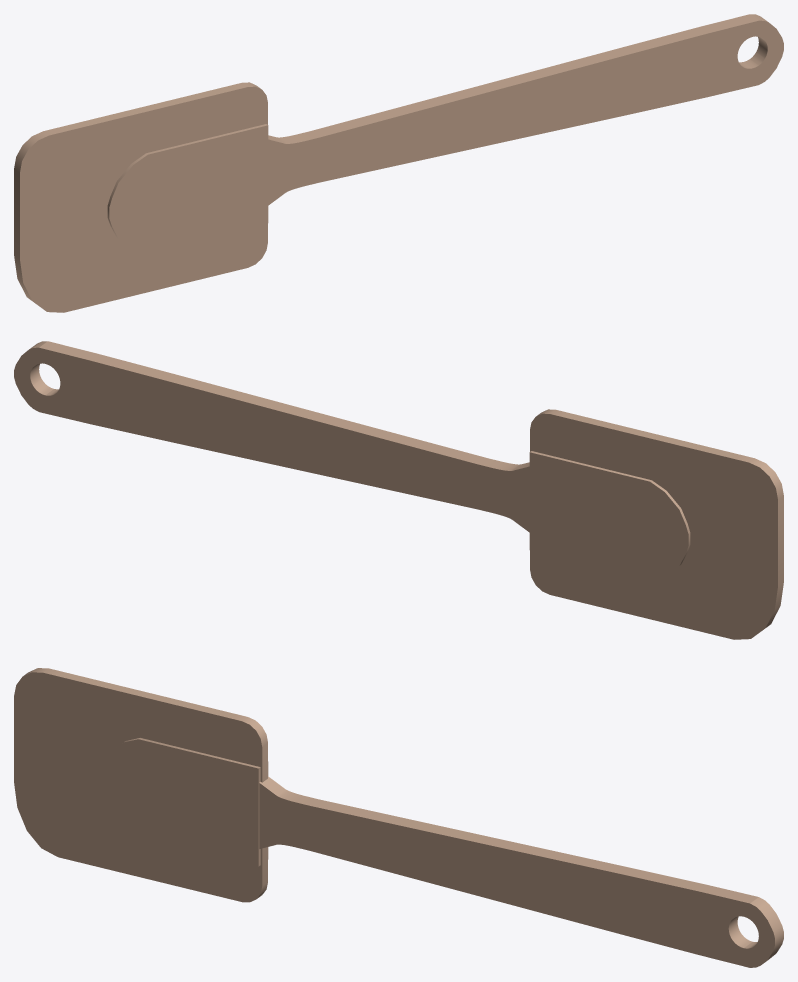
File: spatula.fbx
3 renders of one model, top to bottom at view 1: azimuth 30°, elevation 25°; view 2: azimuth 150°, elevation 25°; view 3: azimuth 330°, elevation 25°, orthographic.
Parts seen in each view (by area): view 1: Cube, Cube.001, Cube.002; view 2: Cube, Cube.001, Cube.002; view 3: Cube, Cube.001, Cube.002.
Boxes of the visible parts, x1,y1,x2,y2 form: Cube: [268, 14, 783, 205]; Cube.001: [14, 82, 267, 312]; Cube.002: [107, 124, 268, 252]; Cube: [14, 341, 529, 532]; Cube.001: [530, 409, 783, 639]; Cube.002: [529, 451, 690, 579]; Cube: [259, 776, 783, 967]; Cube.001: [14, 668, 267, 902]; Cube.002: [99, 738, 268, 866].
Bounding box in the file's own units: 445 × 101 × 9.77.
Materials: 1 (1 with a texture image).
